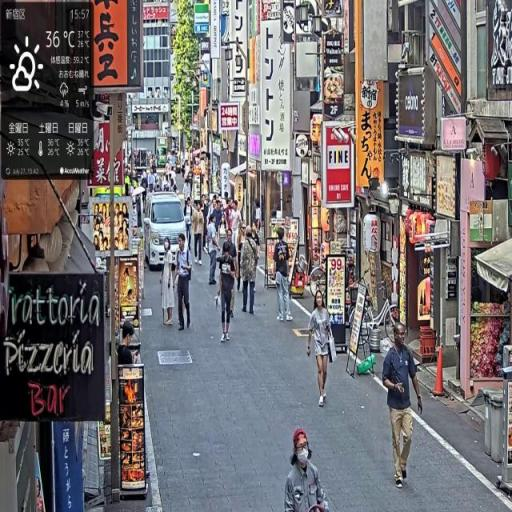person: (383, 321, 425, 489), (284, 426, 327, 512), (308, 291, 339, 409), (217, 239, 239, 343), (175, 233, 194, 331), (160, 236, 179, 331), (241, 228, 260, 316)
